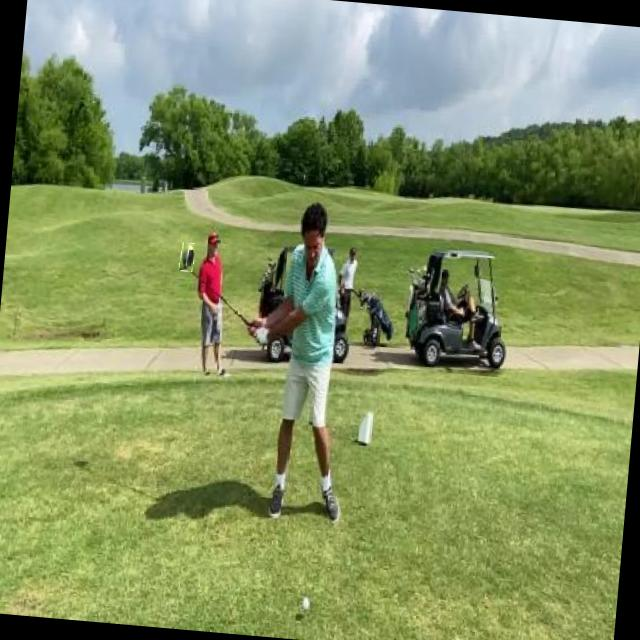club head: (178, 242, 194, 272)
